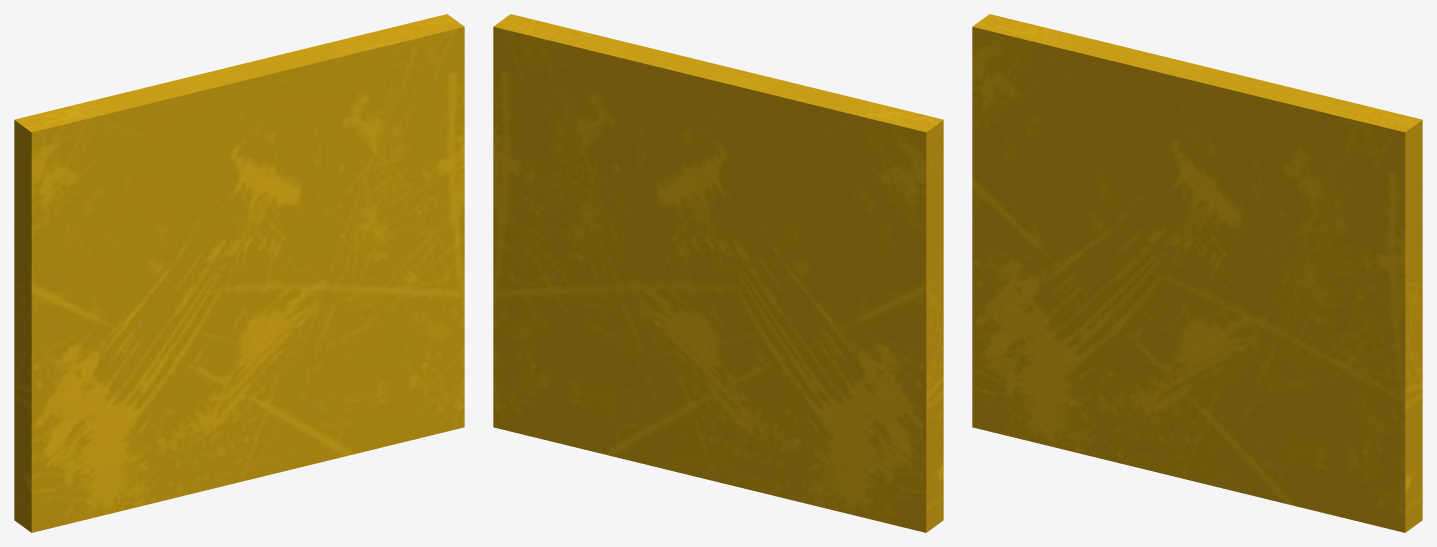
File: floor_hatch.glb
The picture shows the model from 3 angles, left to right: view 1: azimuth 30°, elevation 25°; view 2: azimuth 150°, elevation 25°; view 3: azimuth 330°, elevation 25°; orthographic projection.
Parts seen in each view (by area): view 1: floor_hatch_lid; view 2: floor_hatch_lid; view 3: floor_hatch_lid.
Part boxes in pixels (left/top/right/bottom): floor_hatch_lid: left=14, top=14, right=464, bottom=532; floor_hatch_lid: left=493, top=14, right=943, bottom=532; floor_hatch_lid: left=972, top=14, right=1422, bottom=532.
Size of the model in its own units: 0.43 by 0.38 by 0.03.
1 material, 1 textured.
